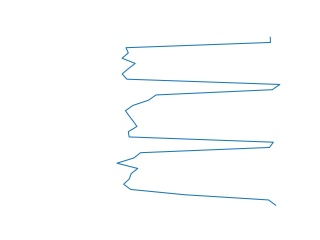majorRiverChannelBar: (113, 34, 285, 206)
